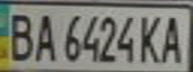2: (96, 11, 121, 63)
4: (78, 11, 103, 63), (115, 11, 139, 63)
6: (60, 10, 84, 63)
A: (157, 11, 187, 64), (30, 9, 57, 63)
B: (3, 9, 36, 62)
K: (136, 11, 163, 64)
